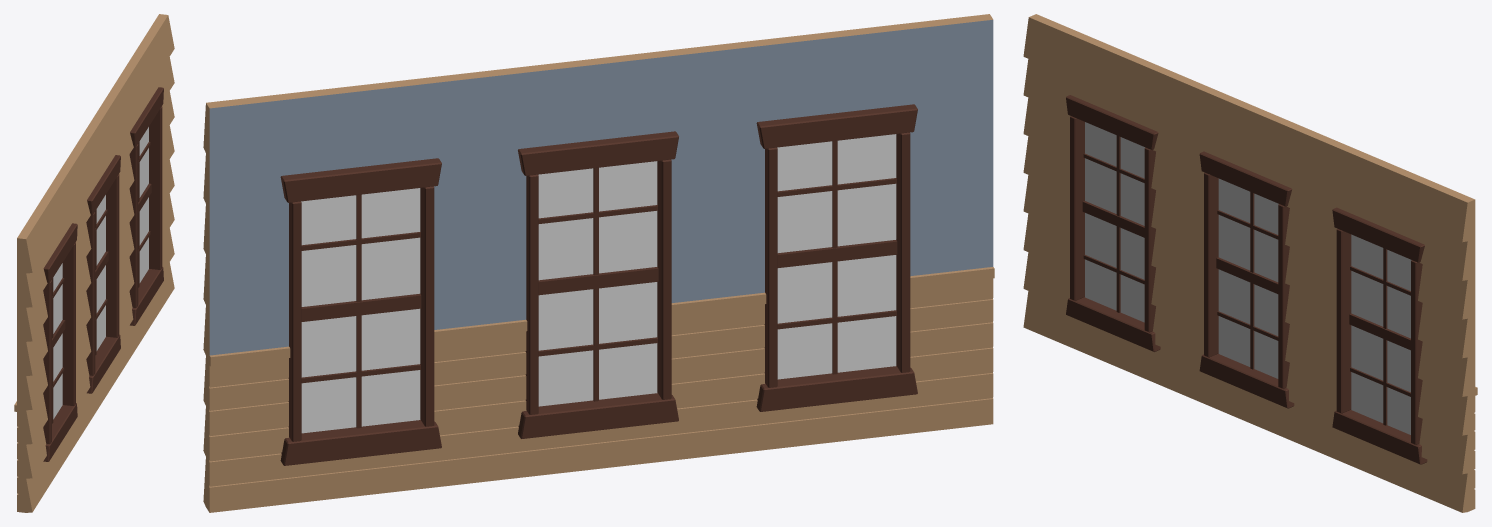
Rendered from Window D-col.glb.
3 renders of one model, left to right at view 1: azimuth 30°, elevation 25°; view 2: azimuth 150°, elevation 25°; view 3: azimuth 270°, elevation 25°, orthographic. The views are drawn at different scales.
Visible parts, largest first — view 1: Window D-col.001; view 2: Window D-col.001; view 3: Window D-col.001.
Boxes of the visible parts, x1,y1,x2,y2 form: Window D-col.001: [14, 14, 174, 512]; Window D-col.001: [203, 14, 994, 512]; Window D-col.001: [1023, 14, 1477, 512].
Size of the model in its own units: 2.93 by 2.2 by 2.93.
